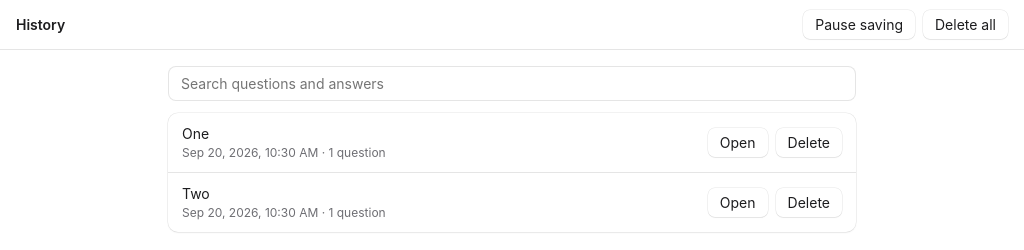
Test: Delete all asks first and Cancel keeps every chat
Click the button "Delete all".
click(966, 24)  # box x1=923 y1=10 x2=1008 y2=39
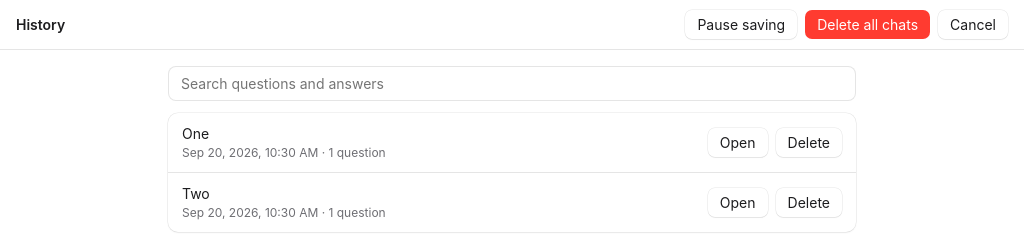
Click the button "Cancel".
click(973, 24)  # box x1=938 y1=10 x2=1008 y2=39
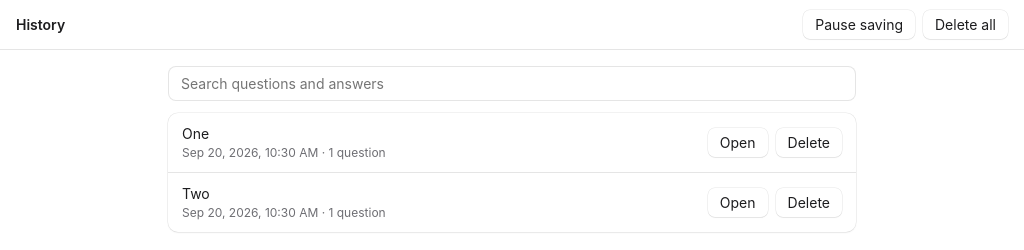
Expected: the number of list items is 2, x1=182 y1=125 x2=842 y2=160; x1=168 y1=172 x2=856 y2=232
Expected: the button "Delete all" is shown, x1=923 y1=10 x2=1008 y2=39
